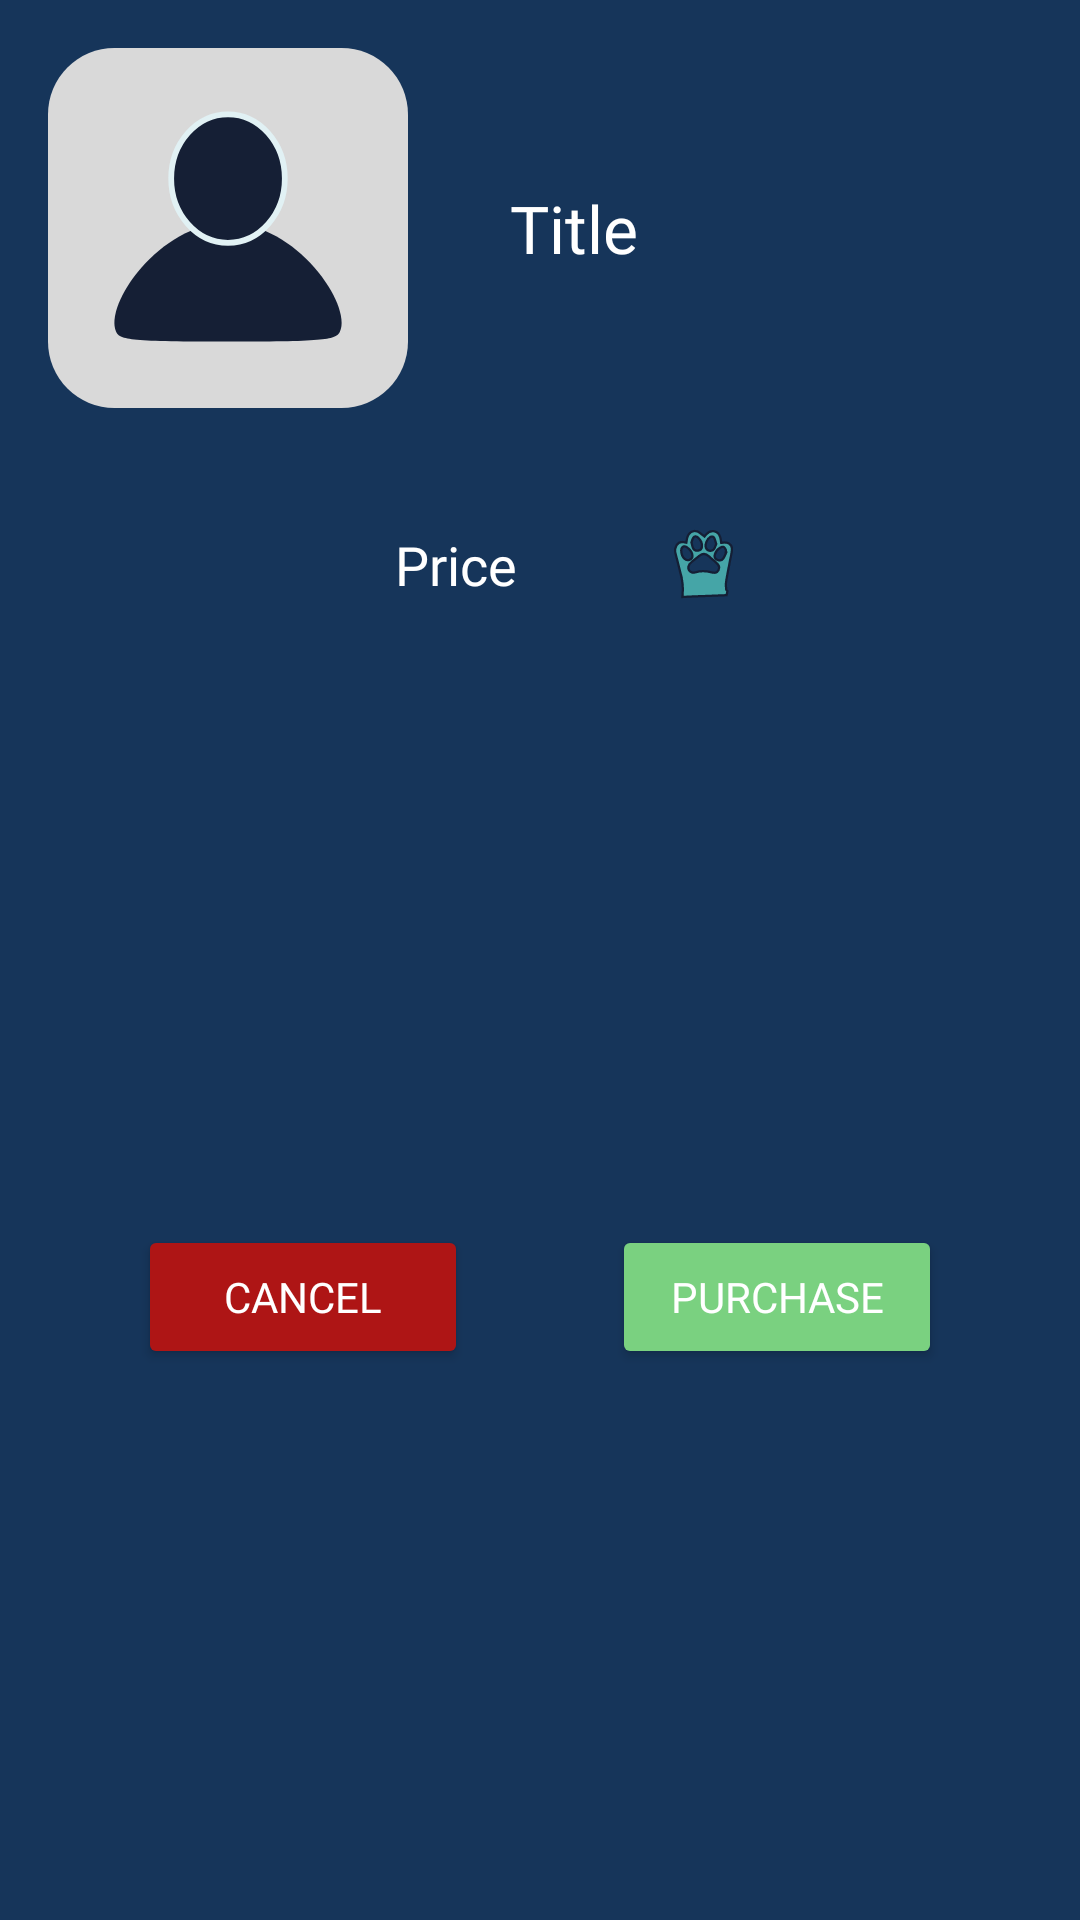

Where to tap for icons on this 1080px×1920px app screen, as (x,y):
prof pick: (228,228)
